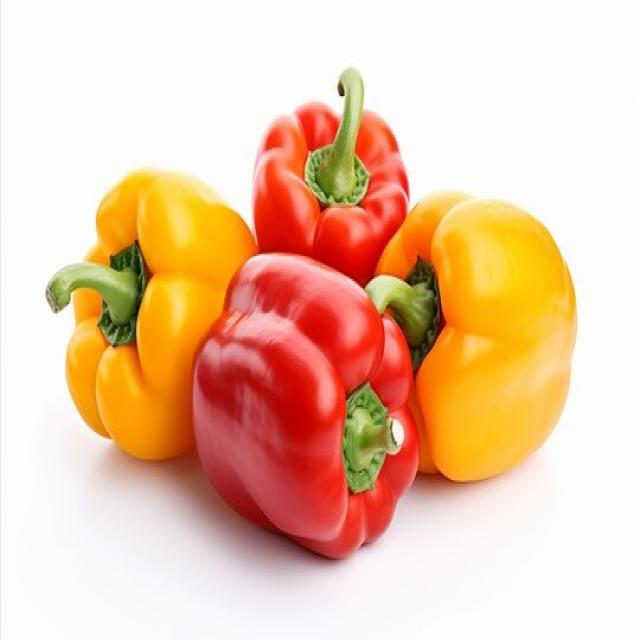Bell Pepper: (190, 249, 420, 560), (44, 166, 258, 460), (368, 188, 578, 482), (250, 64, 410, 284)
Spinach: (45, 66, 577, 560)
